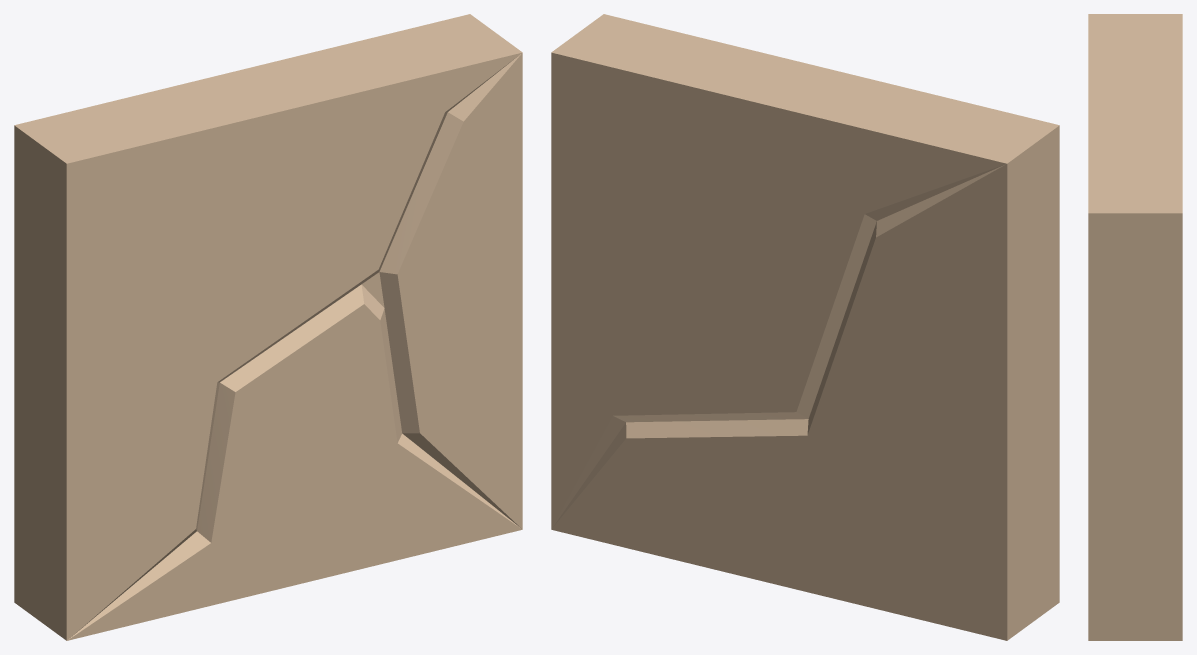
The model's file is Wall_Ruined_Full_Cracked_1.fbx.
The picture shows the model from 3 angles, left to right: view 1: azimuth 30°, elevation 25°; view 2: azimuth 150°, elevation 25°; view 3: azimuth 270°, elevation 25°; orthographic projection. The views are drawn at different scales.
Visible parts, largest first — view 1: object1; view 2: object1; view 3: object1.
Boxes of the visible parts, x1,y1,x2,y2 form: object1: [14, 14, 522, 640]; object1: [551, 14, 1059, 640]; object1: [1088, 14, 1182, 640].
Size of the model in its own units: 1 by 1 by 0.2.
